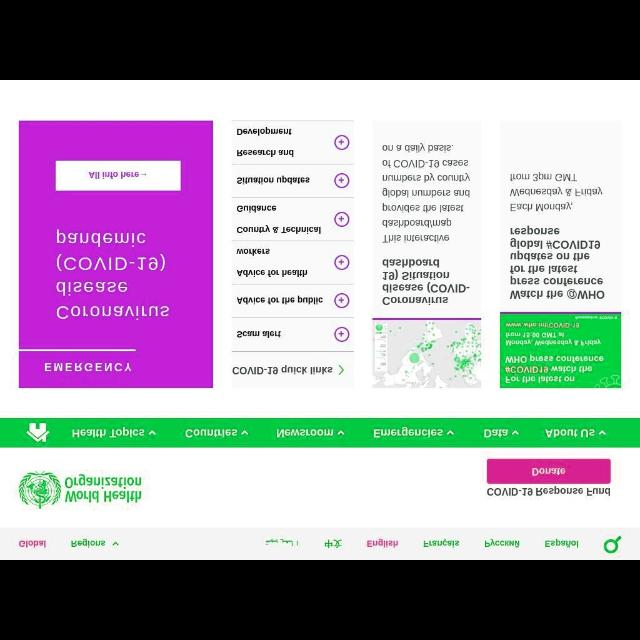button: (334, 292, 350, 308), (334, 328, 351, 342), (336, 172, 350, 188), (334, 136, 350, 150), (335, 255, 351, 268), (334, 212, 348, 226)
icon: (26, 422, 50, 442), (604, 532, 622, 554), (148, 428, 158, 438), (336, 428, 346, 436), (597, 429, 607, 437), (446, 428, 454, 437), (512, 428, 520, 437), (242, 428, 248, 437), (111, 540, 119, 546)
image: (500, 312, 622, 388), (372, 318, 480, 386), (19, 470, 143, 508)
multitab: (2, 418, 640, 447)
spinner: (108, 538, 120, 550), (334, 364, 346, 376), (506, 428, 520, 438), (238, 427, 250, 438), (594, 429, 608, 438), (146, 428, 158, 438), (444, 428, 454, 438), (334, 429, 346, 437)
text: (57, 230, 169, 318), (382, 143, 472, 244), (510, 227, 606, 300), (383, 260, 471, 306), (512, 175, 604, 213), (236, 204, 322, 234), (237, 248, 307, 276), (236, 127, 294, 157), (488, 486, 610, 496), (232, 364, 332, 376), (44, 361, 132, 373), (72, 426, 146, 439), (238, 296, 322, 306), (372, 428, 443, 438), (185, 427, 238, 438), (238, 176, 310, 184), (276, 428, 334, 436), (70, 538, 106, 550), (547, 429, 595, 438), (90, 171, 140, 179), (236, 330, 282, 338), (424, 538, 460, 548), (545, 538, 579, 548), (366, 538, 398, 548), (532, 468, 566, 477), (484, 539, 522, 547), (265, 538, 299, 546), (484, 428, 508, 438), (18, 540, 46, 548), (324, 538, 342, 548)
textbutton: (56, 160, 180, 190), (487, 460, 611, 484)
